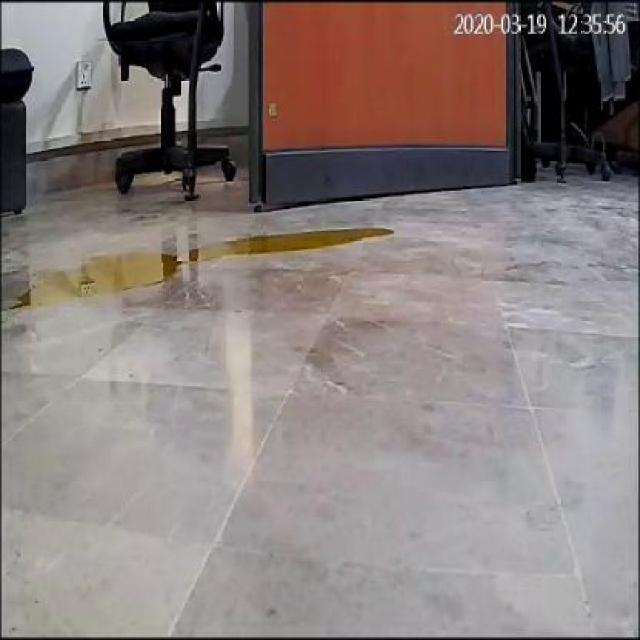spill: (12, 226, 396, 309)
